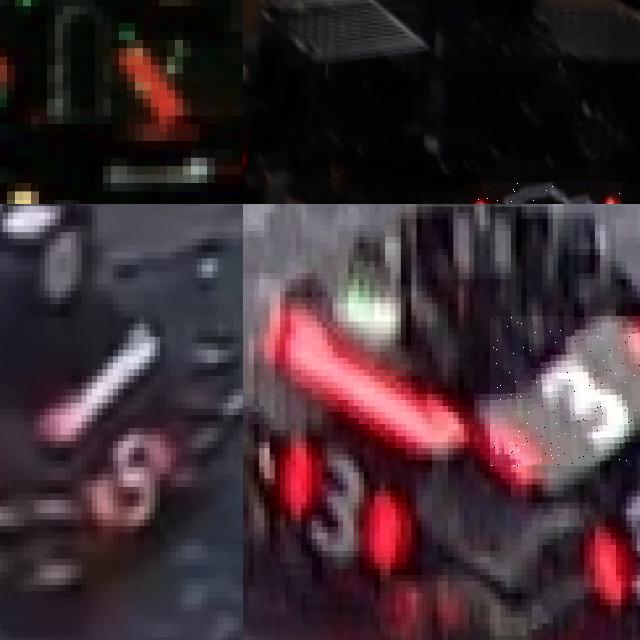R3: (490, 315, 640, 466), (269, 430, 416, 575), (595, 454, 640, 605)
R5: (87, 428, 202, 533)
